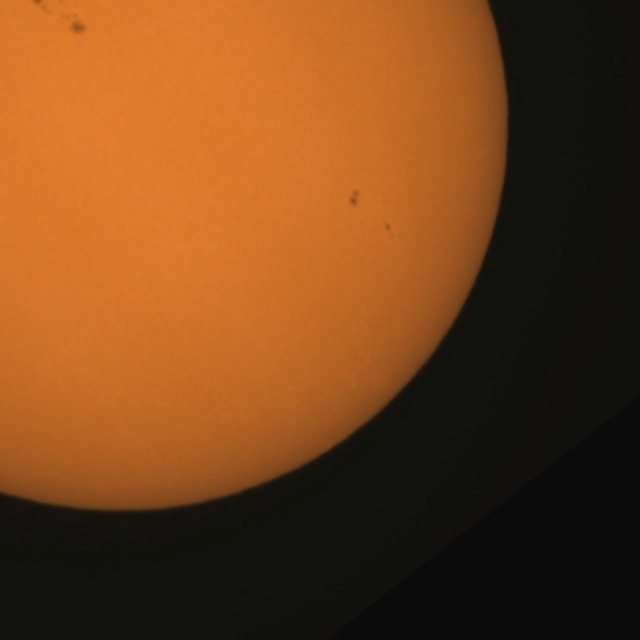sunspot: (33, 1, 88, 38), (63, 11, 89, 37), (347, 187, 362, 209), (384, 222, 401, 240)
